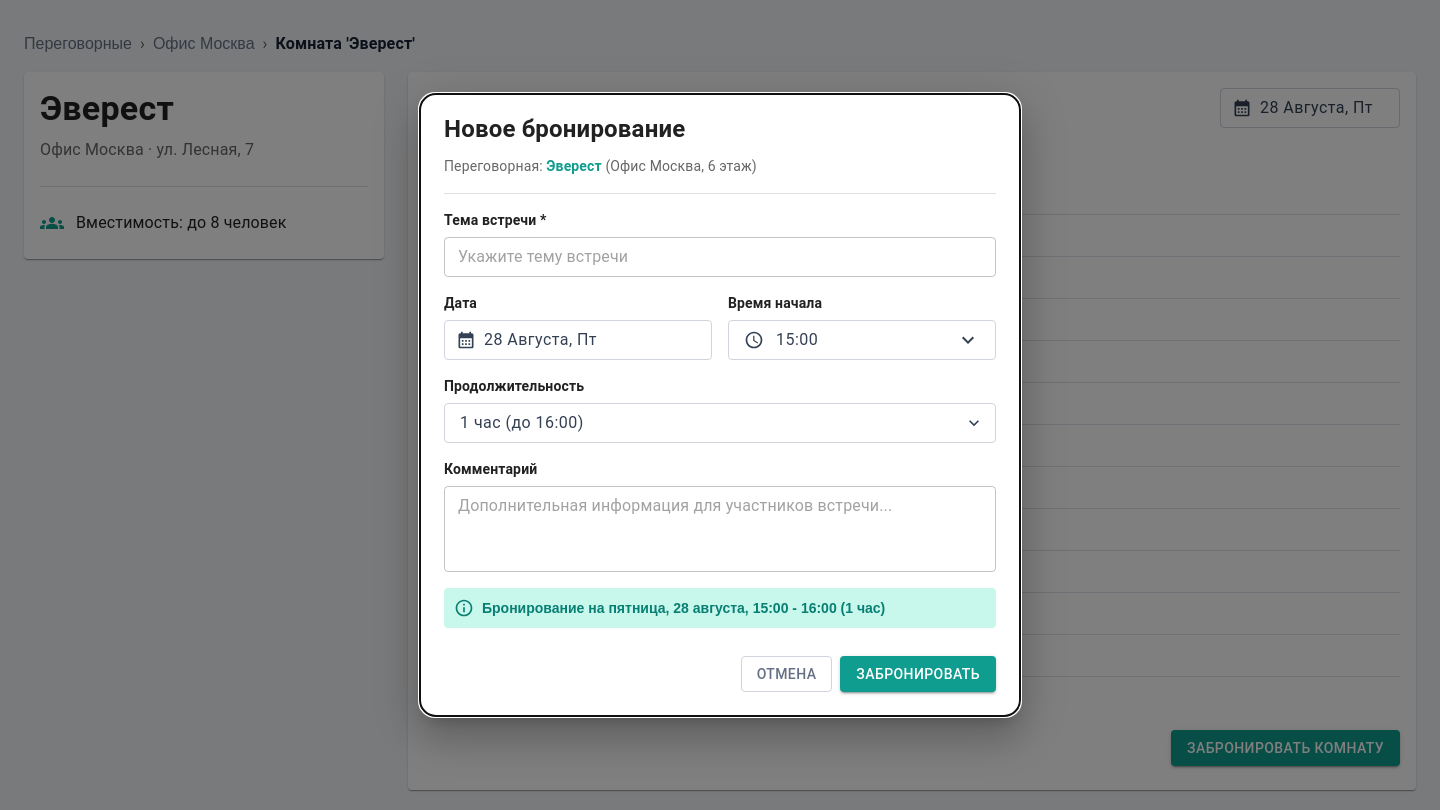
Test: Room booking form › shows past date validation
The image size is (1440, 810).
Expected: the heading "Новое бронирование" is shown, 444,114 -> 685,142
Type "Синк" into the field with placeholder "Укажите тему встречи" at (720, 257), box 444,237 -> 996,277
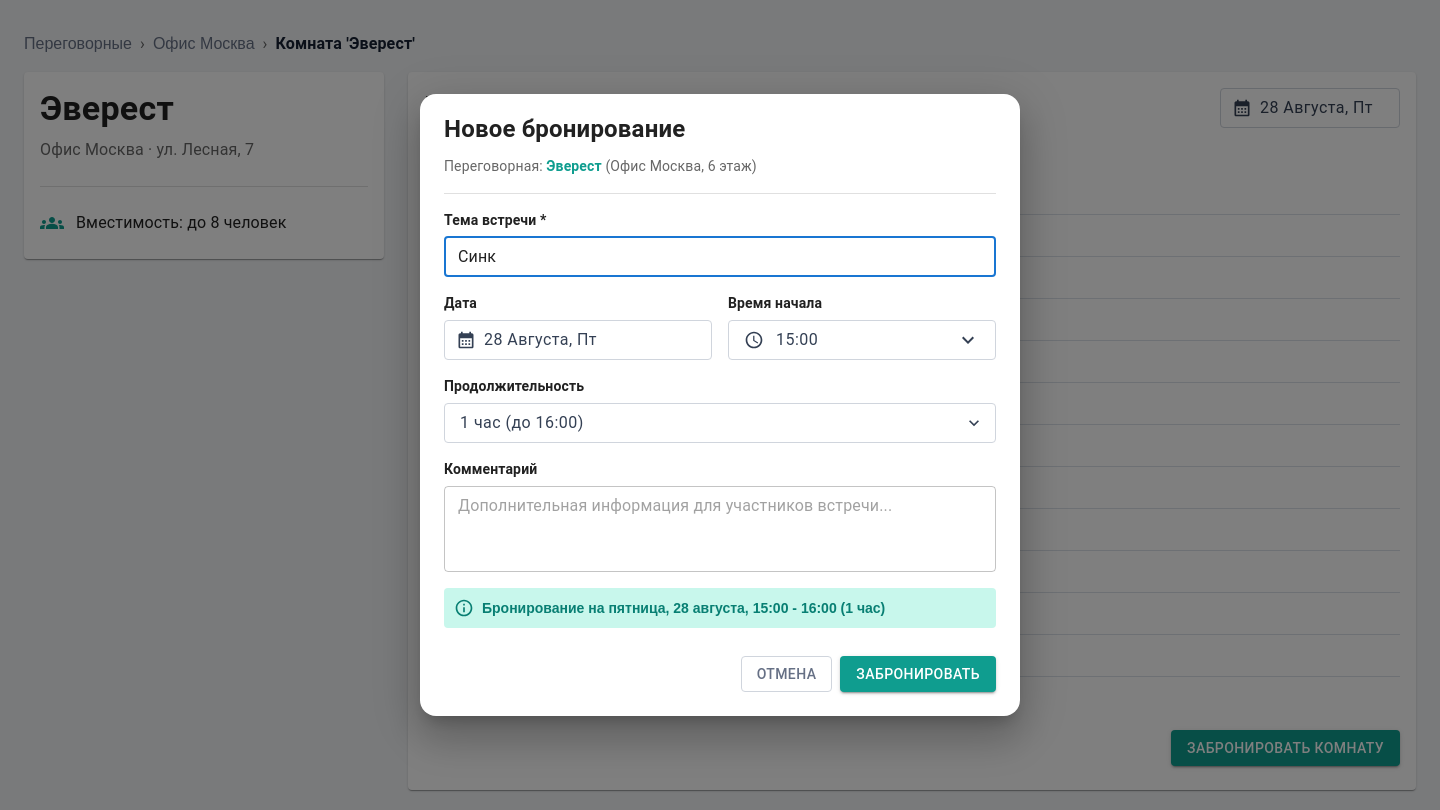
Click the button "Забронировать" at (918, 674), box 840,656 -> 996,692
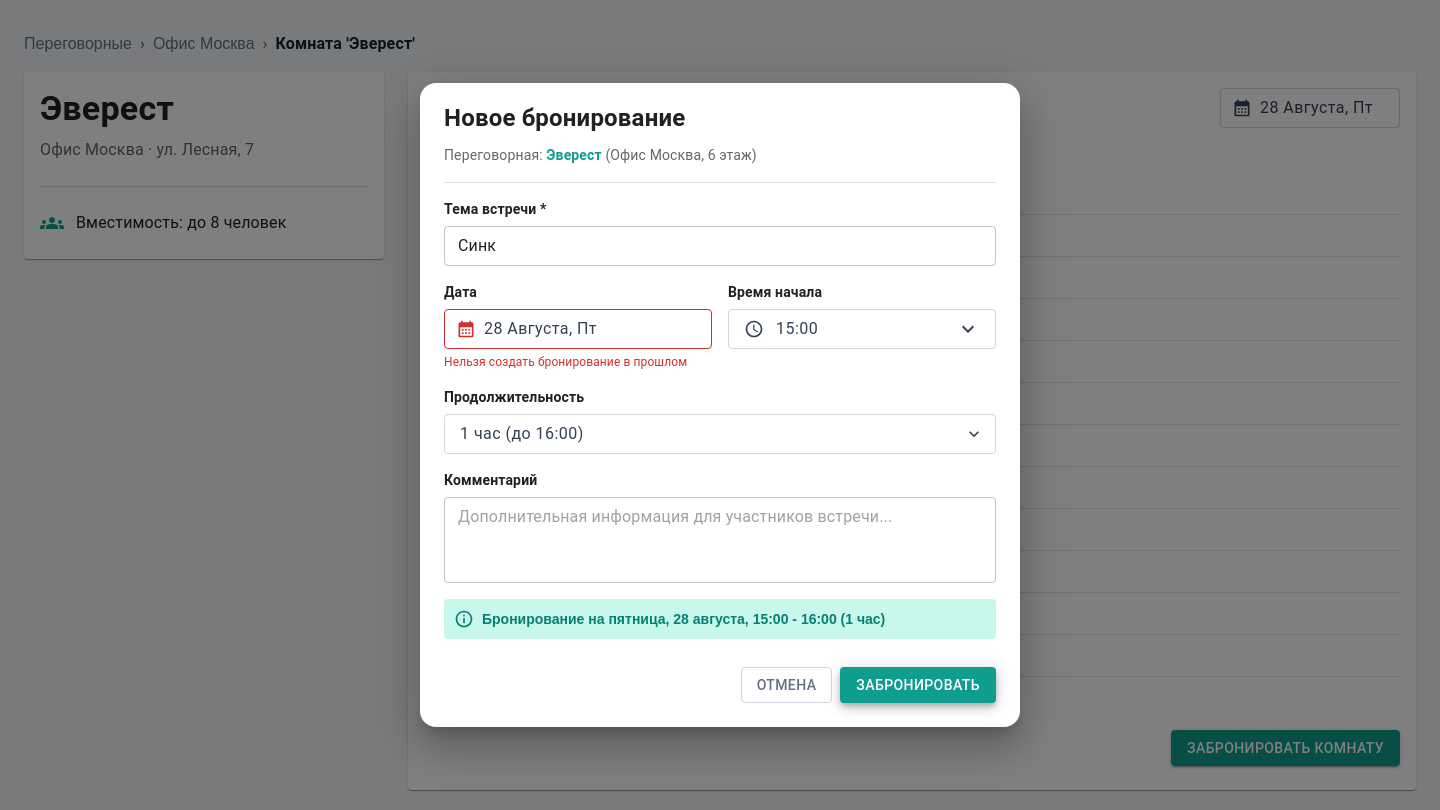
Expected: the text "Нельзя создать бронирование в прошлом" is shown, 444,353 -> 712,371
